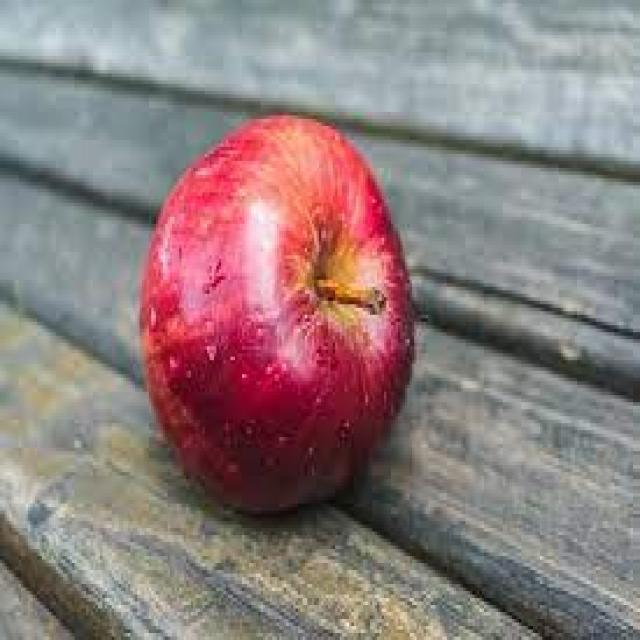Fresh Apple: (137, 108, 413, 520)
